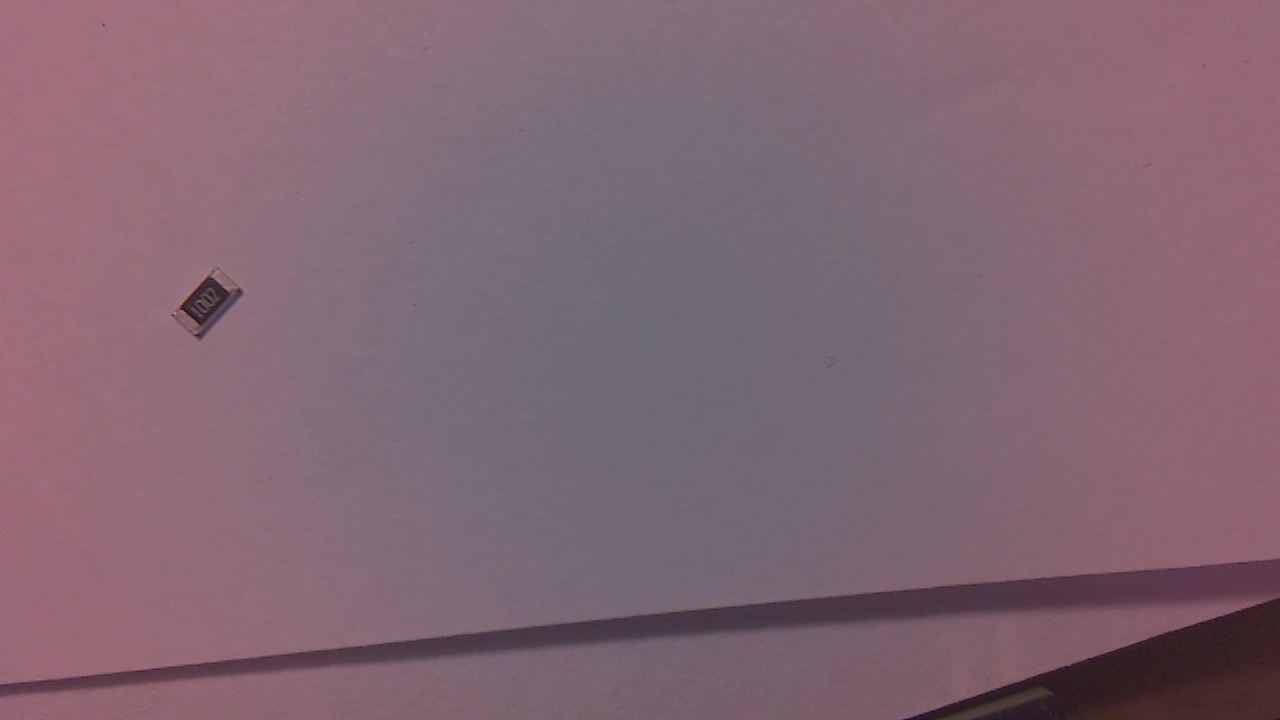Resistor: (176, 273, 248, 346)
